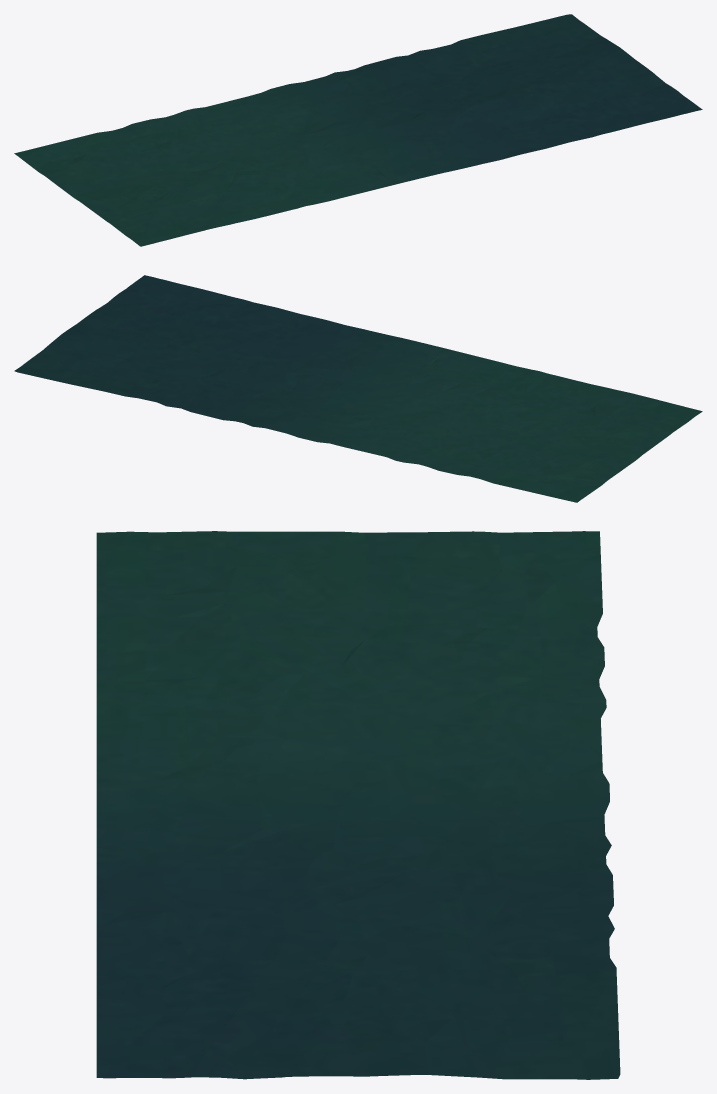
3 views of the same model, one above another, from view 1: azimuth 30°, elevation 25°; view 2: azimuth 150°, elevation 25°; view 3: azimuth 270°, elevation 25° (orthographic). The views are drawn at different scales.
Bounding box in the file's own units: 209 × 1.04 × 84.83.
1 material, 1 textured.
